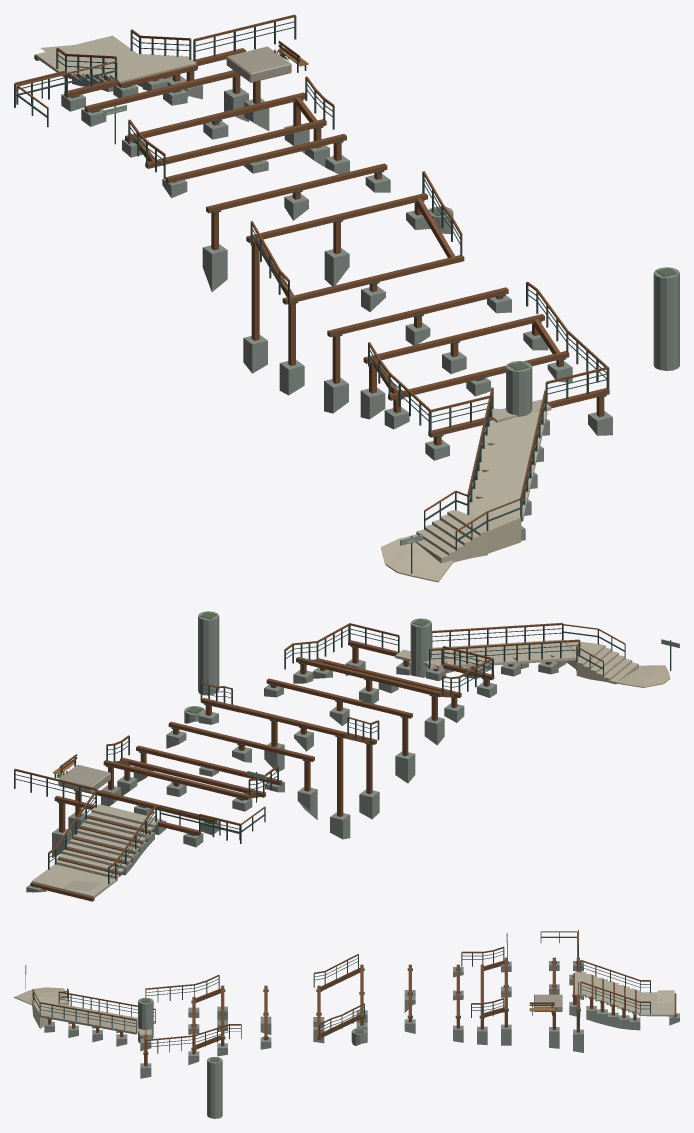
The model's file is circulation-interfaces.glb.
3 renders of one model, top to bottom at view 1: azimuth 30°, elevation 25°; view 2: azimuth 150°, elevation 25°; view 3: azimuth 270°, elevation 25°, orthographic. The views are drawn at different scales.
Parts seen in each view (by area): view 1: S2A / oiled tropical timber / static, S2E / volcanic stone / static, S2C / warm pedestrian stone 1 / walking surface, S2A / patinated bronze frames / static, C1 / warm limestone / walking surface.001, S2A / sandstone base / static, C1 / deep green metal / static.001; view 2: S2A / oiled tropical timber / static, S2E / volcanic stone / static, S2C / warm pedestrian stone 1 / walking surface, S2A / patinated bronze frames / static, C1 / warm limestone / walking surface.001, S2A / sandstone base / static, C1 / deep green metal / static.001; view 3: S2E / volcanic stone / static, S2A / oiled tropical timber / static, S2C / warm pedestrian stone 1 / walking surface, S2A / patinated bronze frames / static, C1 / warm limestone / walking surface.001, S2A / sandstone base / static.
Part boxes in pixels (box(x1,y1,x2,y2)): S2A / oiled tropical timber / static: box(14, 14, 609, 498); S2E / volcanic stone / static: box(61, 74, 679, 540); S2C / warm pedestrian stone 1 / walking surface: box(35, 35, 551, 521); S2A / patinated bronze frames / static: box(14, 16, 609, 573); C1 / warm limestone / walking surface.001: box(381, 510, 521, 582); S2A / sandstone base / static: box(226, 46, 291, 82); C1 / deep green metal / static.001: box(16, 62, 521, 550); S2A / oiled tropical timber / static: box(14, 622, 579, 901); S2E / volcanic stone / static: box(26, 611, 576, 892); S2C / warm pedestrian stone 1 / walking surface: box(31, 639, 578, 897); S2A / patinated bronze frames / static: box(14, 623, 671, 887); C1 / warm limestone / walking surface.001: box(563, 639, 670, 687); S2A / sandstone base / static: box(58, 764, 110, 793); C1 / deep green metal / static.001: box(159, 630, 625, 840); S2E / volcanic stone / static: box(44, 961, 679, 1118); S2A / oiled tropical timber / static: box(39, 930, 676, 1066); S2C / warm pedestrian stone 1 / walking surface: box(39, 972, 674, 1036); S2A / patinated bronze frames / static: box(25, 935, 677, 1054); C1 / warm limestone / walking surface.001: box(14, 987, 69, 1028); S2A / sandstone base / static: box(534, 994, 562, 1011).
Bounding box in the file's own units: 24.95 × 9.68 × 55.42.
